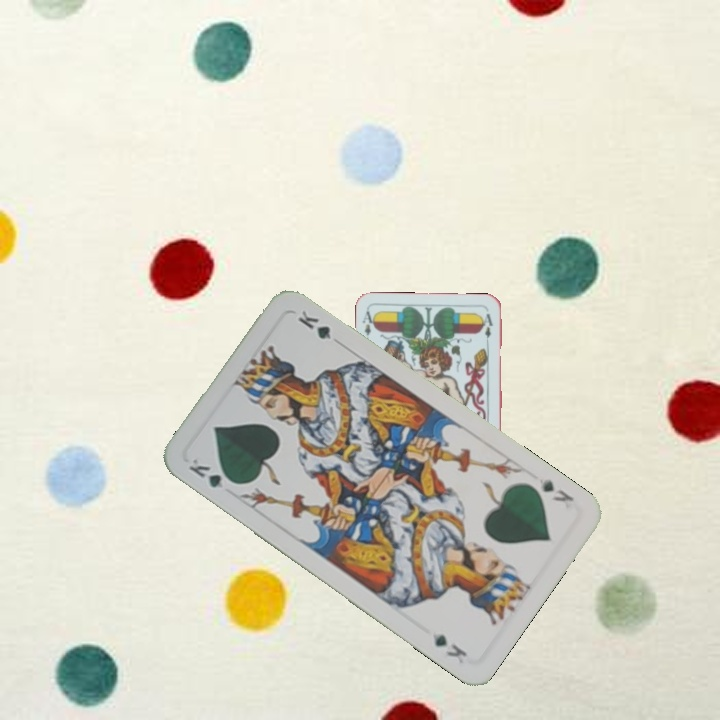EA: (359, 307, 378, 338)
GK: (184, 454, 240, 491), (534, 474, 577, 505)
